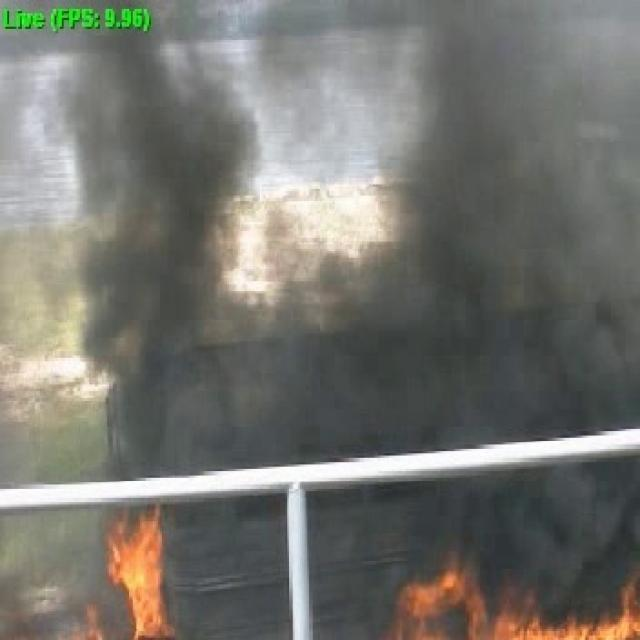Fire: (118, 520, 163, 632)
Smoke: (405, 61, 638, 568), (85, 77, 220, 486), (226, 342, 396, 631)
